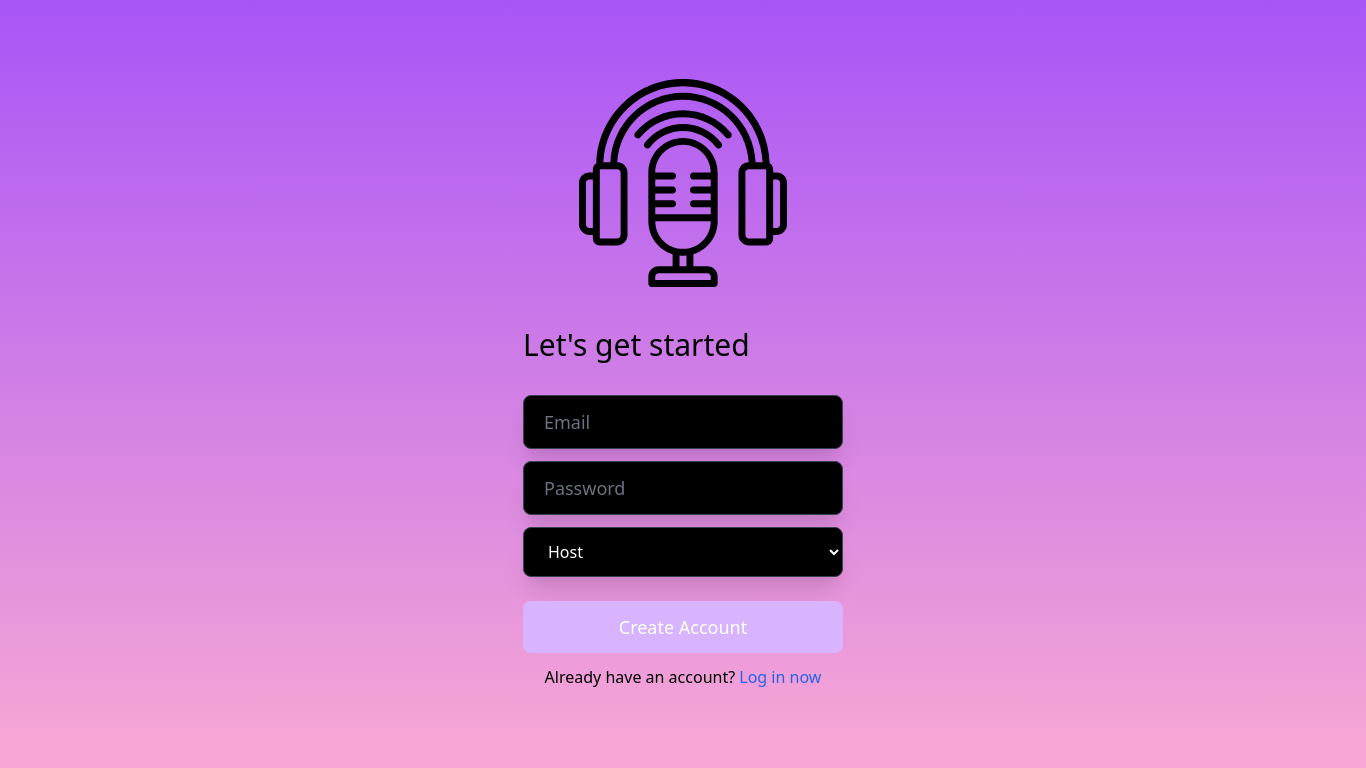
it: <CreateAccount /> › renders validation errors
Type "wont@work" into the field with placeholder "Email" at (683, 422), box [523, 395, 843, 449]
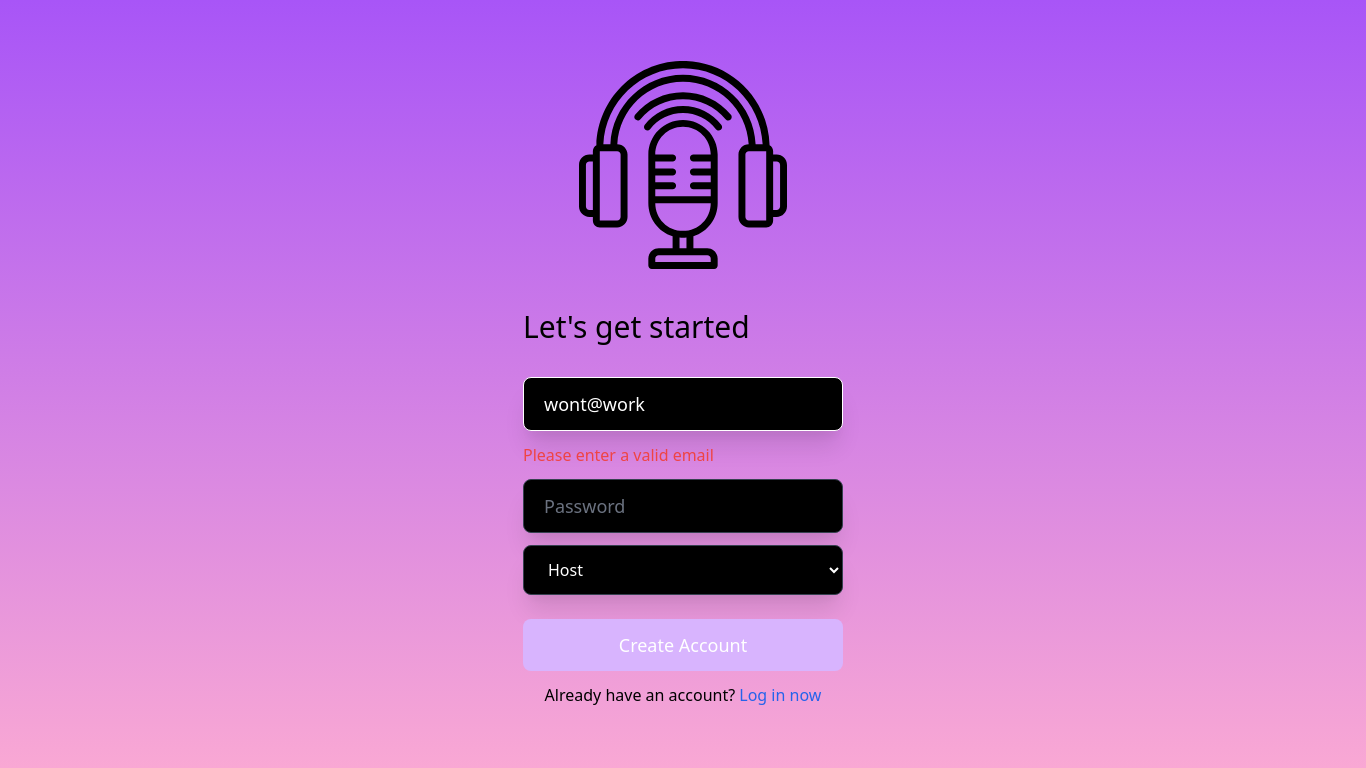
Now the message reads "Please enter a valid email", box [523, 444, 714, 466]
Clear the field with placeholder "Email" at (683, 404), box [523, 377, 843, 431]
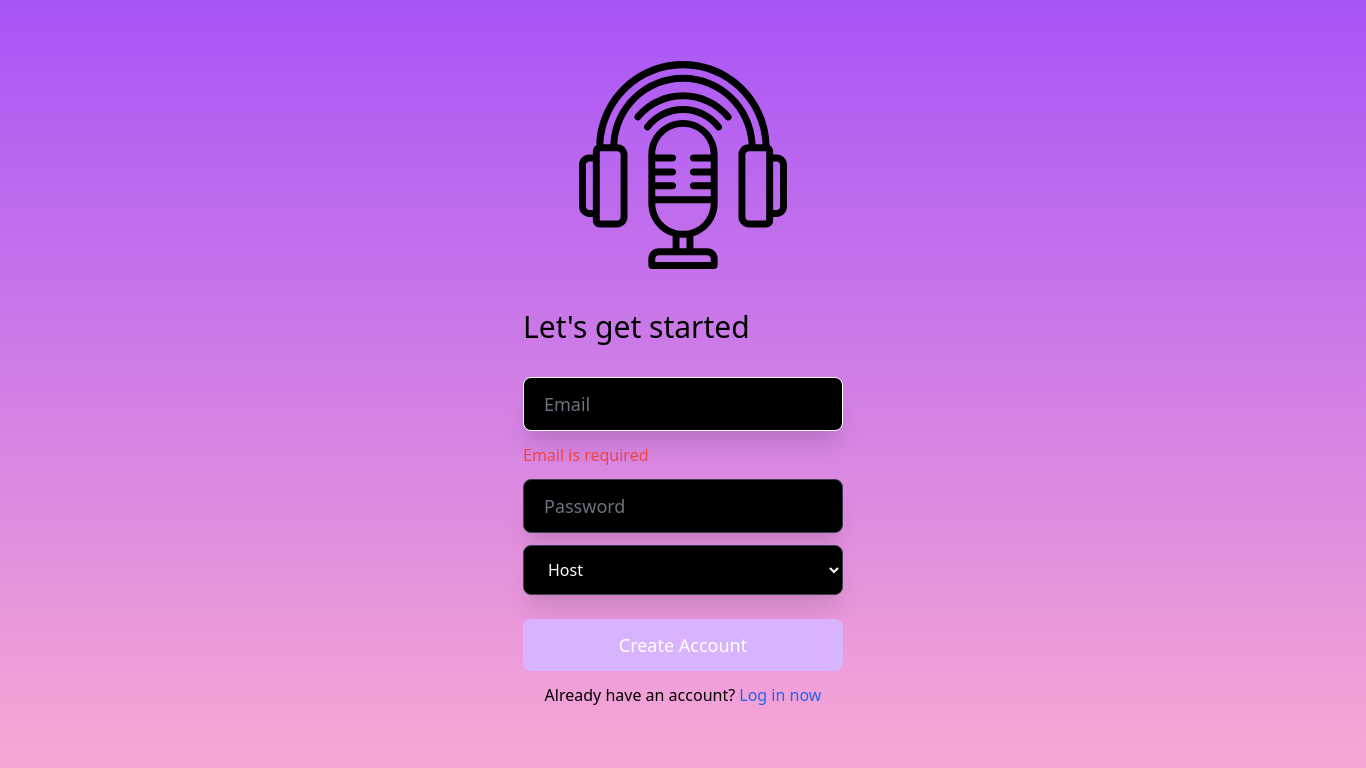
Now the message reads "Email is required", box [523, 444, 648, 466]
